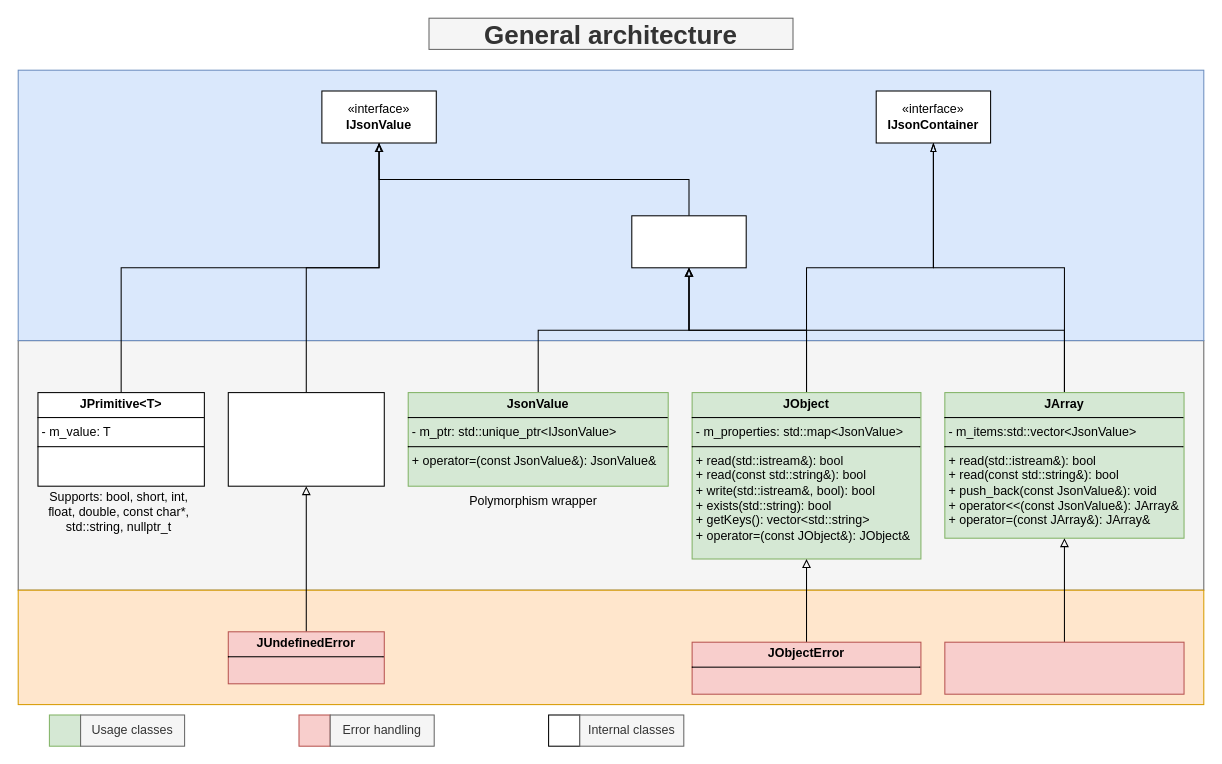
Some shapes in this 1222 by 764 pixel diagram are drawn without their labels. The box of each missing label's shape, as (x1, y1, x2, y2) in pixels:
Abstract concepts: (17, 69, 1204, 341)
Behavior overload: (17, 589, 1204, 705)
Interfaces Implementation: (17, 340, 1204, 590)
JArrayError: (944, 641, 1184, 694)
JsonItem: (631, 215, 746, 268)
JUndefined: (227, 392, 384, 486)
